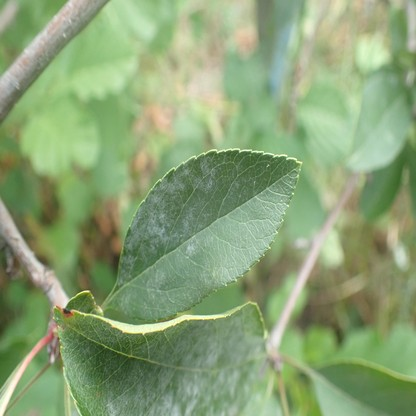powder: (52, 302, 274, 416), (100, 151, 216, 316), (230, 163, 243, 192)
